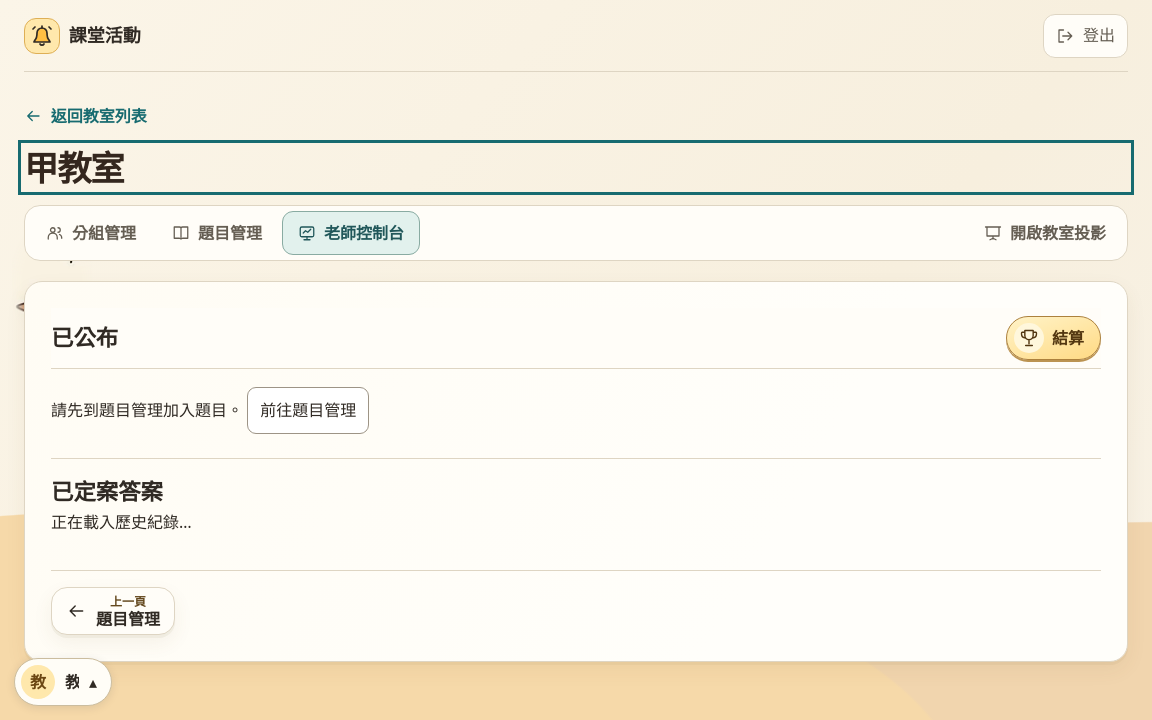
Test case: 新活動按鈕反映 ended 的階段限制
Expected: the heading "已公布" is shown, x1=51 y1=321 x2=118 y2=355
Expected: the text "回填與匯出" is not shown
Click the button "結算" at (1054, 338), box x1=1006 y1=316 x2=1101 y2=360
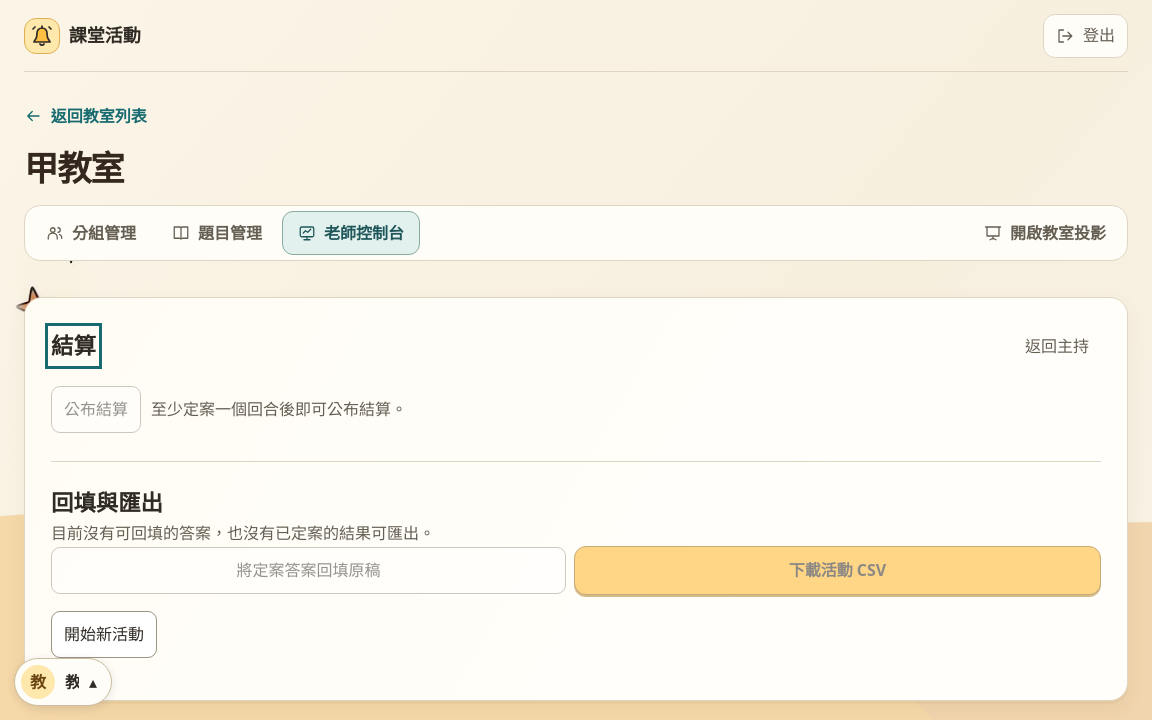
Expected: the text "目前沒有可回填的答案" is shown, x1=51 y1=522 x2=435 y2=544
Expected: the text "開始新活動" is shown, x1=51 y1=611 x2=157 y2=658
Click the button "返回主持" at (1057, 346), box x1=1013 y1=324 x2=1101 y2=368
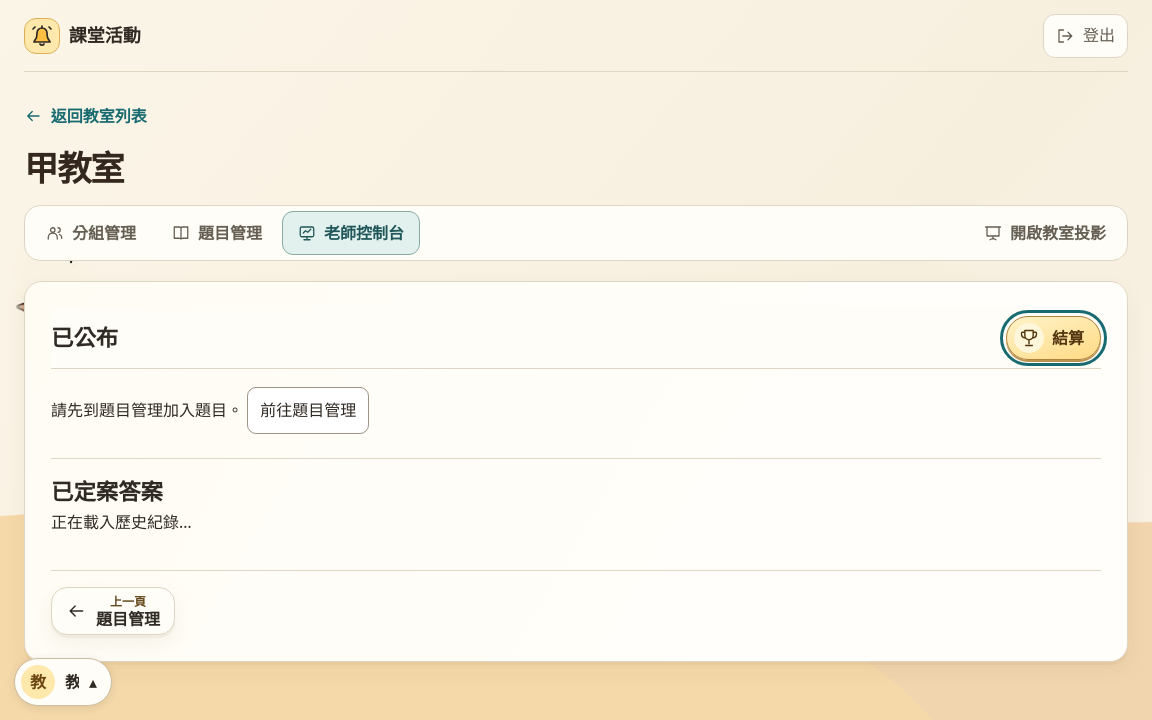
Expected: the text "回填與匯出" is gone
